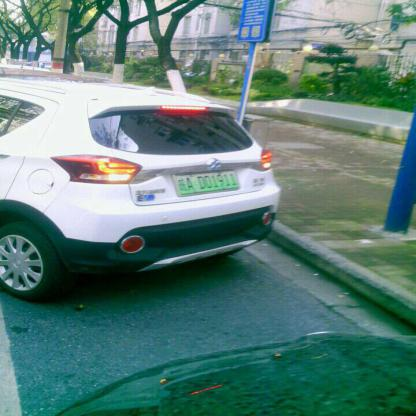lp: (173, 169, 239, 195)
